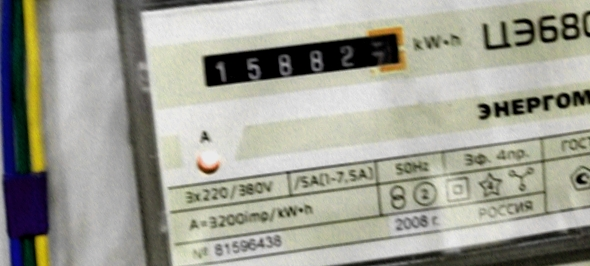1: (213, 57, 230, 84)
2: (338, 40, 357, 68)
5: (244, 54, 263, 80)
7: (370, 47, 386, 64)
8: (275, 50, 295, 76), (307, 45, 325, 71)
screen: (187, 17, 419, 101)
